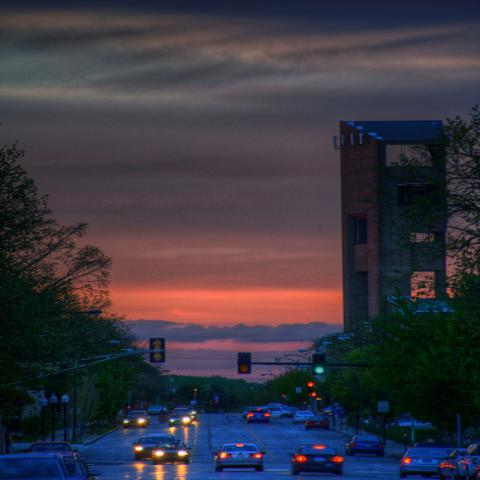car: (0, 403, 479, 479), (286, 446, 343, 476), (398, 446, 449, 479), (215, 444, 263, 472), (150, 441, 192, 465), (131, 436, 172, 460), (346, 434, 386, 458), (438, 448, 468, 479), (123, 410, 152, 430), (23, 442, 79, 452), (304, 416, 331, 430), (247, 409, 270, 423), (293, 411, 314, 424), (267, 407, 289, 418)
